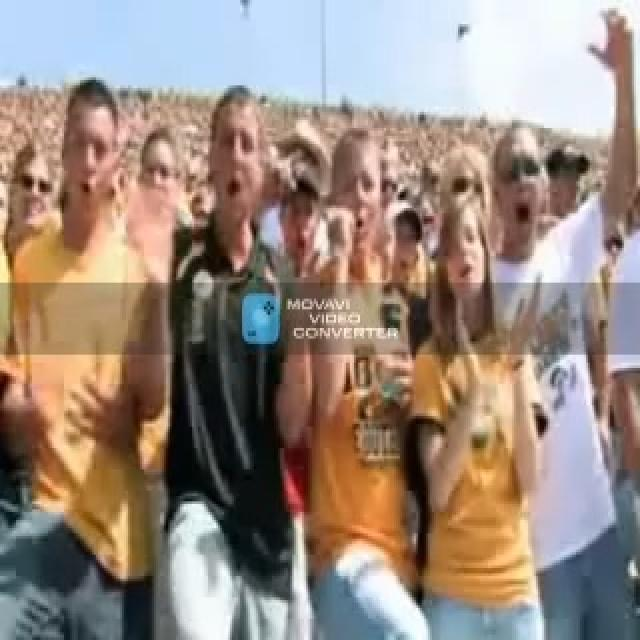non-voilence: (0, 5, 638, 638), (0, 75, 176, 637), (158, 83, 308, 637)
